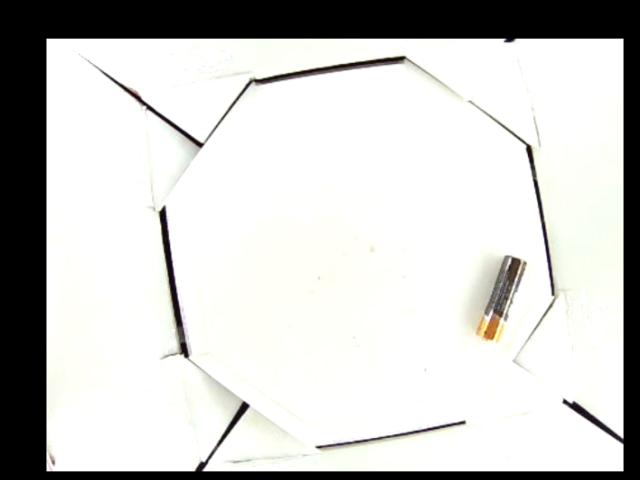Battery: (474, 255, 531, 345)
